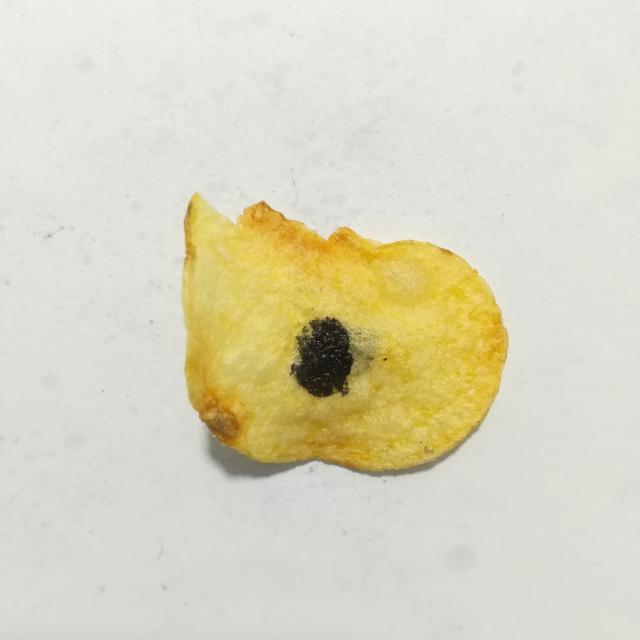chip: (182, 194, 508, 471)
damaged: (291, 317, 354, 398)
semi-damaged: (345, 324, 378, 377)
